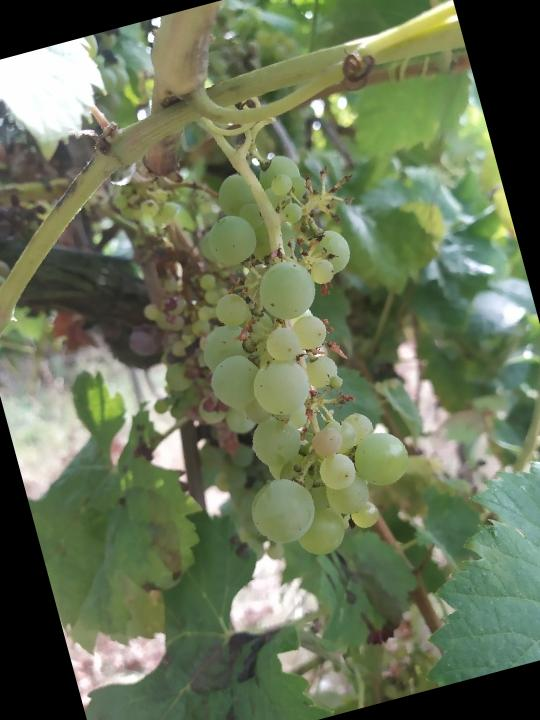grape: (152, 137, 430, 576)
